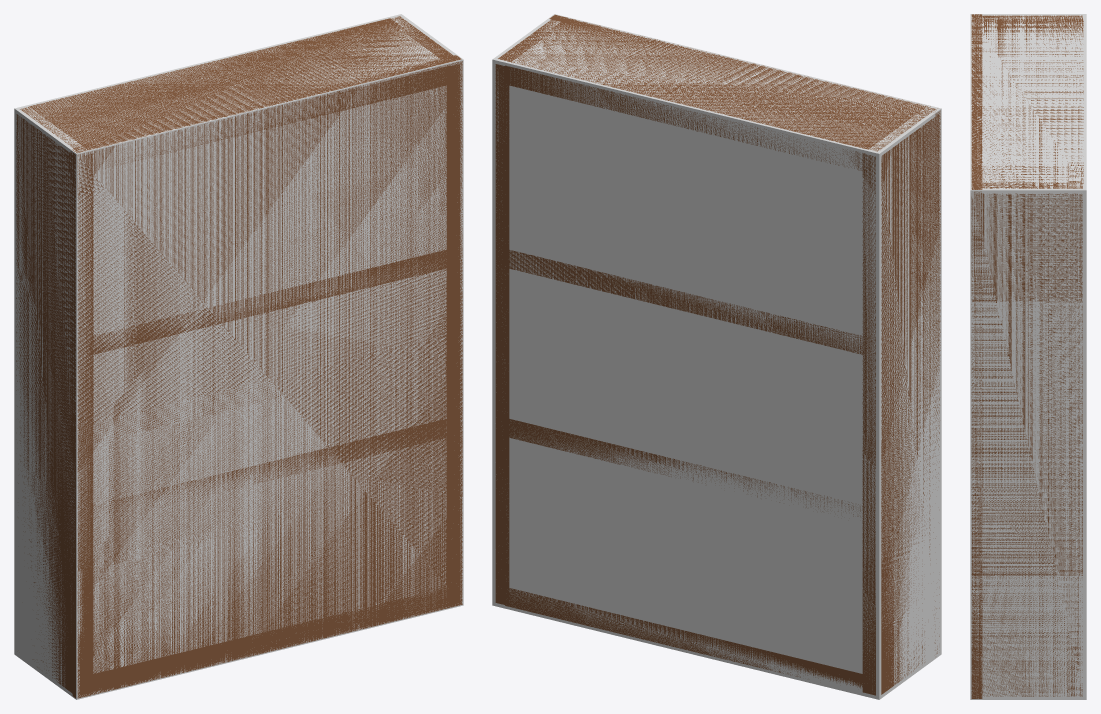
Rendered from bookcase.glb.
3 views of the same model, side by side, from view 1: azimuth 30°, elevation 25°; view 2: azimuth 150°, elevation 25°; view 3: azimuth 270°, elevation 25° (orthographic). The views are drawn at different scales.
Parts seen in each view (by area): view 1: family_bookcase_COL, family_bookcase_001_back, family_bookcase_002_side_-1, family_bookcase_007_shelf_3, family_bookcase_003_side_1, family_bookcase_004_shelf_0, family_bookcase_006_shelf_2, family_bookcase_005_shelf_1; view 2: family_bookcase_COL, family_bookcase_002_side_-1, family_bookcase_007_shelf_3, family_bookcase_003_side_1, family_bookcase_006_shelf_2, family_bookcase_004_shelf_0, family_bookcase_005_shelf_1, family_bookcase_001_back; view 3: family_bookcase_COL, family_bookcase_003_side_1, family_bookcase_001_back, family_bookcase_007_shelf_3, family_bookcase_002_side_-1.
Part boxes in pixels (bbox=[...]): family_bookcase_COL: bbox=[14, 14, 463, 699]; family_bookcase_001_back: bbox=[70, 55, 462, 698]; family_bookcase_002_side_-1: bbox=[16, 106, 93, 695]; family_bookcase_007_shelf_3: bbox=[29, 18, 450, 169]; family_bookcase_003_side_1: bbox=[391, 16, 460, 605]; family_bookcase_004_shelf_0: bbox=[89, 588, 450, 693]; family_bookcase_006_shelf_2: bbox=[89, 249, 446, 355]; family_bookcase_005_shelf_1: bbox=[93, 419, 446, 517]; family_bookcase_COL: bbox=[492, 14, 941, 699]; family_bookcase_002_side_-1: bbox=[862, 106, 939, 695]; family_bookcase_007_shelf_3: bbox=[505, 18, 925, 170]; family_bookcase_003_side_1: bbox=[495, 19, 559, 605]; family_bookcase_006_shelf_2: bbox=[509, 250, 865, 355]; family_bookcase_004_shelf_0: bbox=[505, 588, 866, 688]; family_bookcase_005_shelf_1: bbox=[505, 418, 862, 516]; family_bookcase_001_back: bbox=[549, 14, 940, 371]; family_bookcase_COL: bbox=[970, 14, 1086, 699]; family_bookcase_003_side_1: bbox=[974, 182, 1082, 696]; family_bookcase_001_back: bbox=[971, 14, 982, 698]; family_bookcase_007_shelf_3: bbox=[973, 19, 1083, 183]; family_bookcase_002_side_-1: bbox=[974, 15, 1082, 21].
Size of the model in its own units: 1.15 by 1.55 by 0.32.
